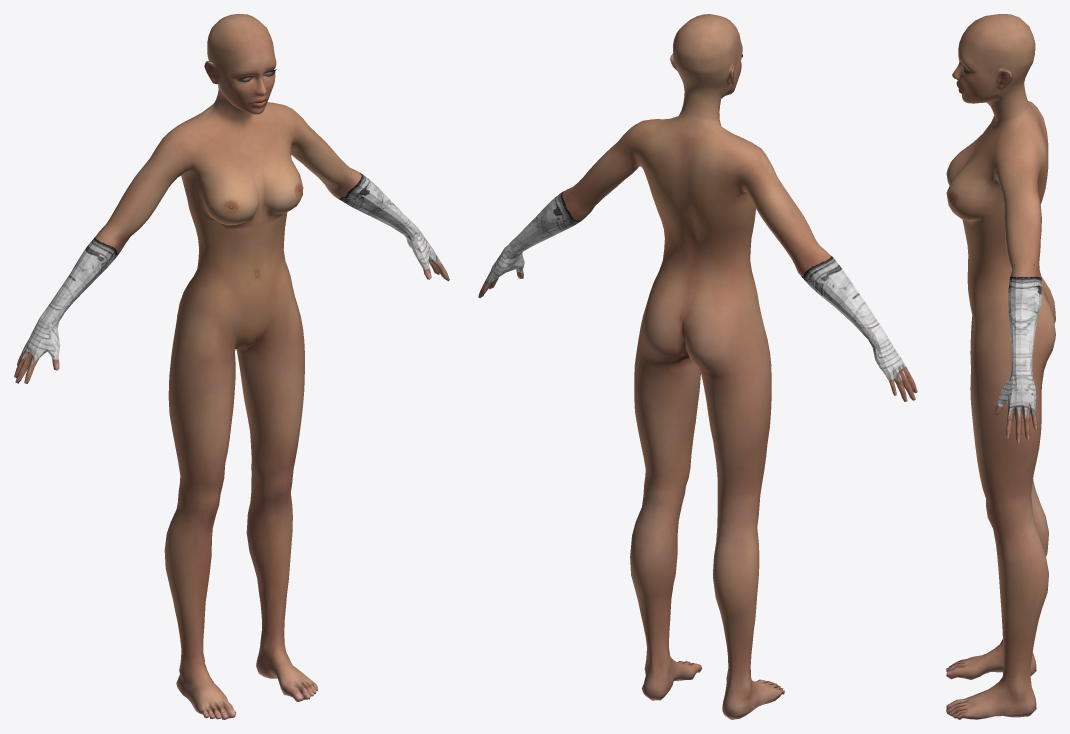
File: F_Armpads_Impact.glb
The picture shows the model from 3 angles, left to right: view 1: azimuth 30°, elevation 25°; view 2: azimuth 150°, elevation 25°; view 3: azimuth 270°, elevation 25°; orthographic projection.
Bounding box in the file's own units: 119 × 178 × 26.11.
4 materials, 3 textured.
